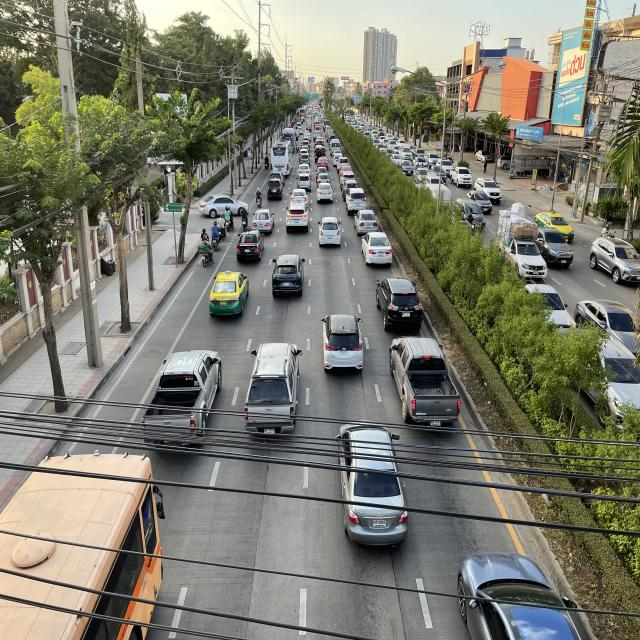bike: (198, 235, 216, 268), (210, 220, 221, 251), (216, 212, 228, 240), (238, 204, 250, 230), (224, 206, 235, 232), (254, 186, 264, 209)
